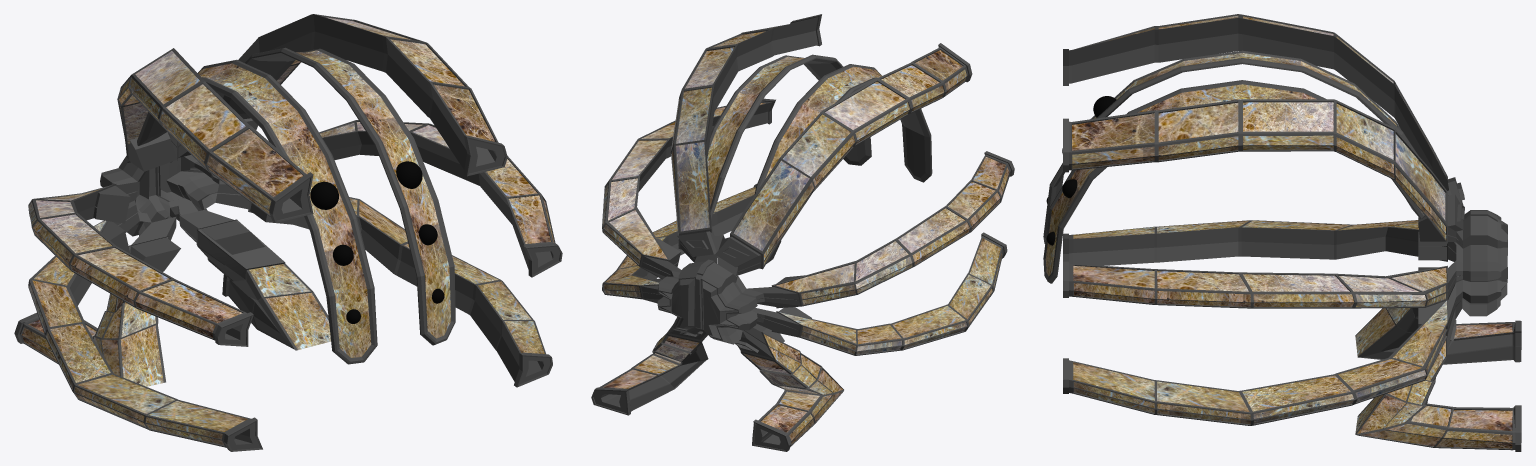
File: _newSpiderTextured.fbx
3 renders of one model, left to right at view 1: azimuth 30°, elevation 25°; view 2: azimuth 150°, elevation 25°; view 3: azimuth 270°, elevation 25°, orthographic. The views are drawn at different scales.
Parts seen in each view (by area): view 1: spider_rig; view 2: spider_rig; view 3: spider_rig.
Boxes of the visible parts, x1,y1,x2,y2 form: spider_rig: [14, 14, 562, 451]; spider_rig: [591, 14, 1014, 451]; spider_rig: [1043, 14, 1521, 451].
Size of the model in its own units: 18.93 by 15.16 by 19.35.
Materials: 3 (1 with a texture image).
